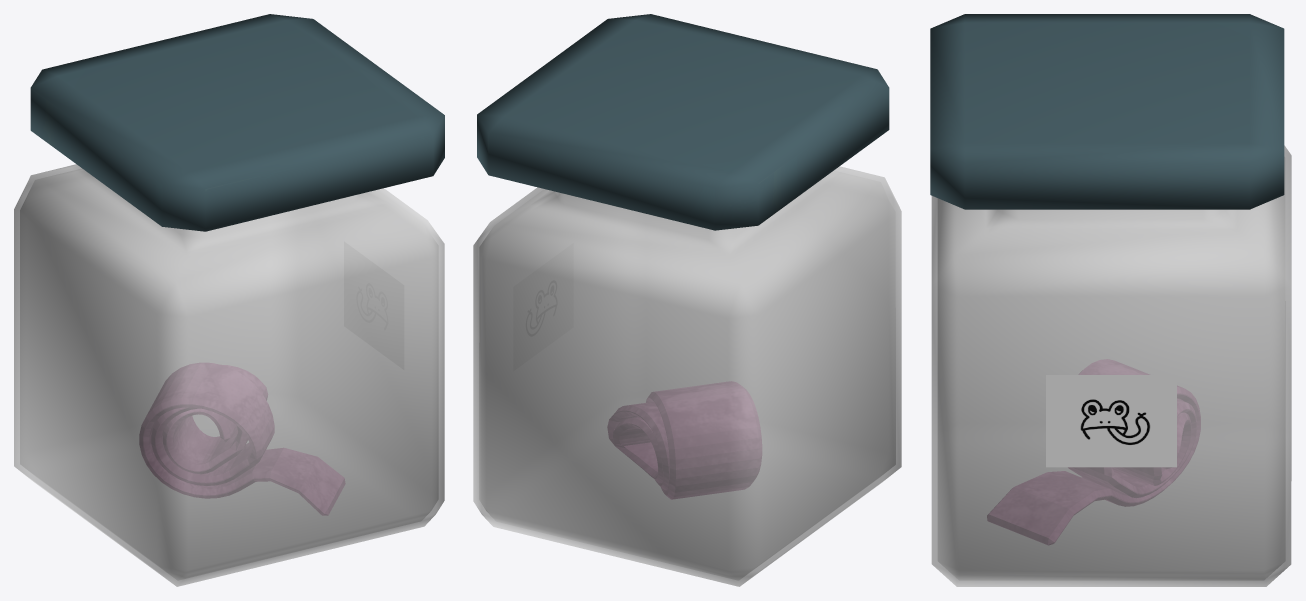
Rendered from FrogTongue.fbx.
3 views of the same model, side by side, from view 1: azimuth 30°, elevation 25°; view 2: azimuth 150°, elevation 25°; view 3: azimuth 270°, elevation 25° (orthographic). The views are drawn at different scales.
Parts seen in each view (by area): view 1: Jar, CapLabel, Tongue; view 2: Jar, CapLabel, Tongue; view 3: Jar, CapLabel, Tongue.
Boxes of the visible parts, left/top/right/bottom form: Jar: left=14, top=164, right=444, bottom=586; CapLabel: left=30, top=14, right=444, bottom=231; Tongue: left=139, top=363, right=345, bottom=515; Jar: left=473, top=166, right=901, bottom=586; CapLabel: left=477, top=14, right=889, bottom=230; Tongue: left=607, top=381, right=761, bottom=499; Jar: left=931, top=145, right=1291, bottom=586; CapLabel: left=930, top=14, right=1284, bottom=467; Tongue: left=987, top=359, right=1200, bottom=544.
Size of the model in its own units: 323 by 432 by 320.
3 materials, 2 textured.
